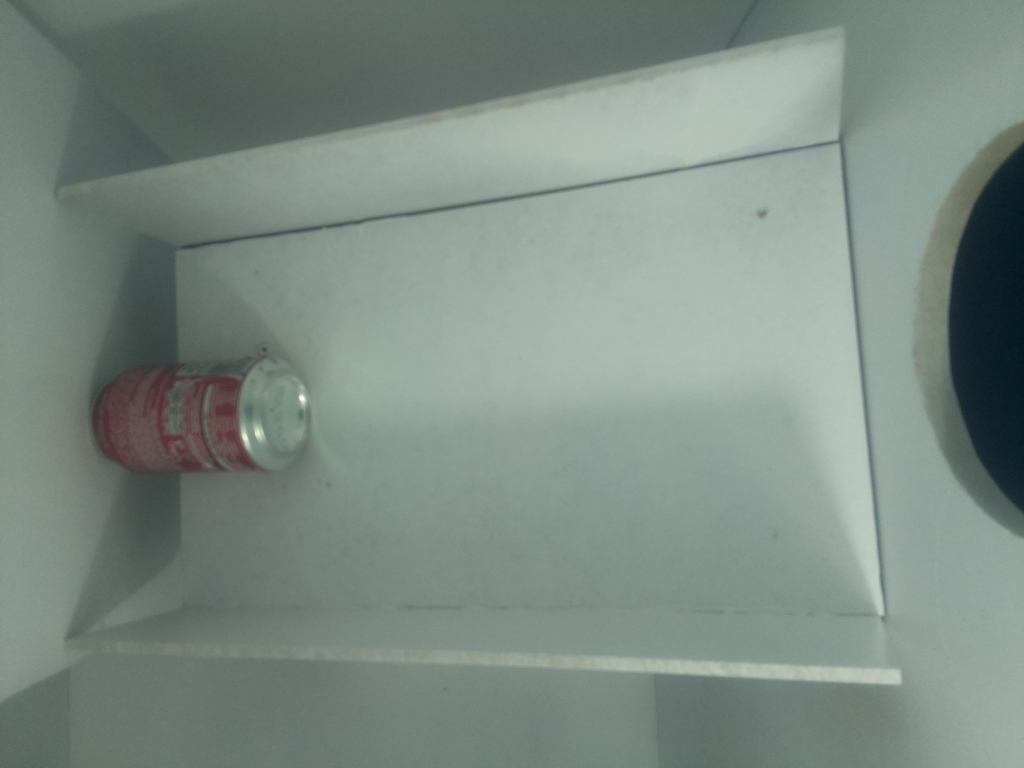kaleng: (91, 358, 310, 473)
